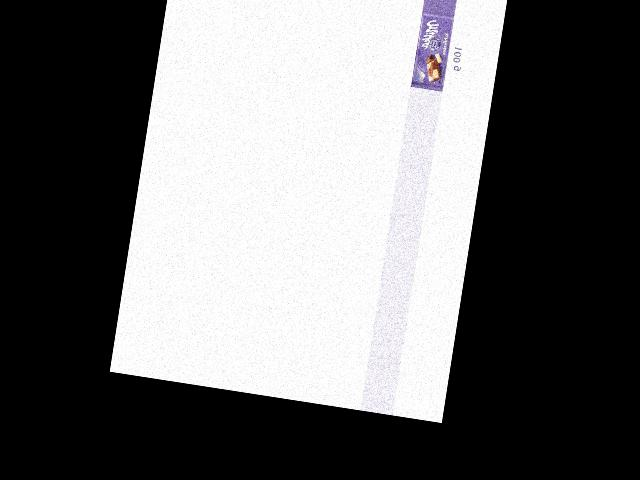chocolate: (410, 10, 455, 92)
